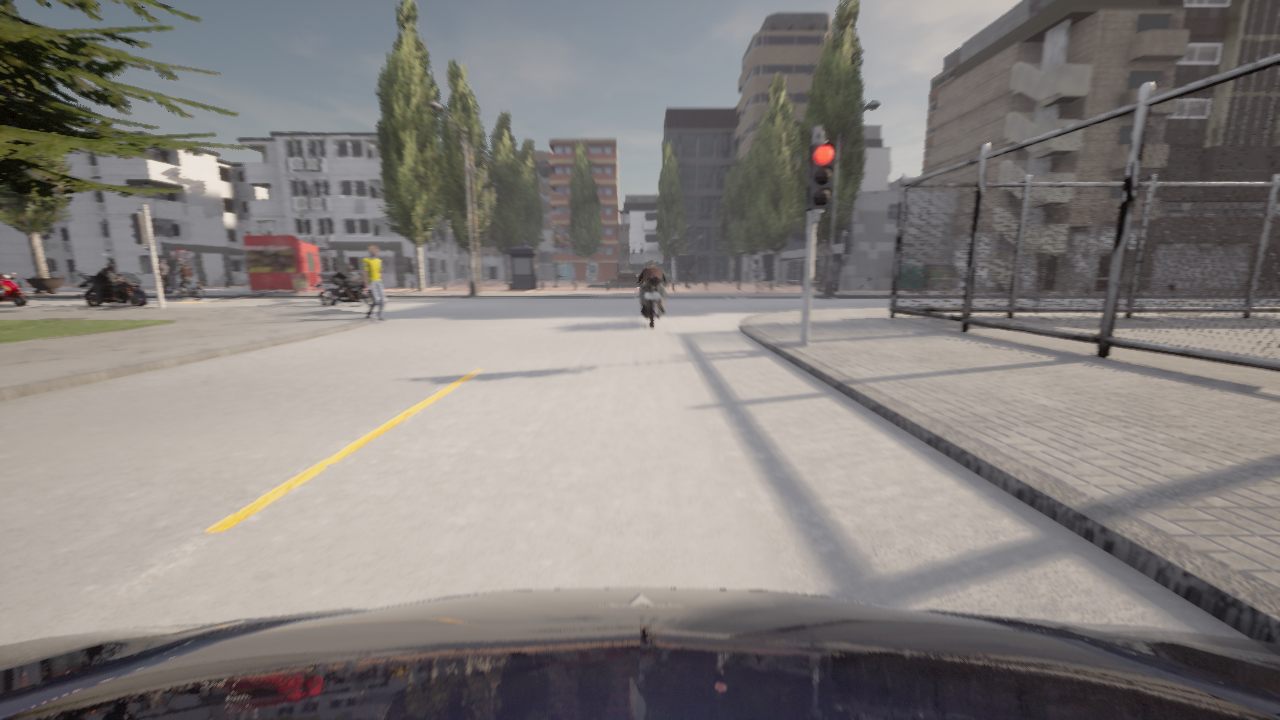cyclist: (0, 588, 1279, 719), (76, 272, 146, 306), (314, 272, 371, 306), (635, 273, 669, 328), (162, 275, 203, 299)
pedestrian: (361, 246, 385, 321), (158, 259, 170, 292), (753, 260, 763, 292)
